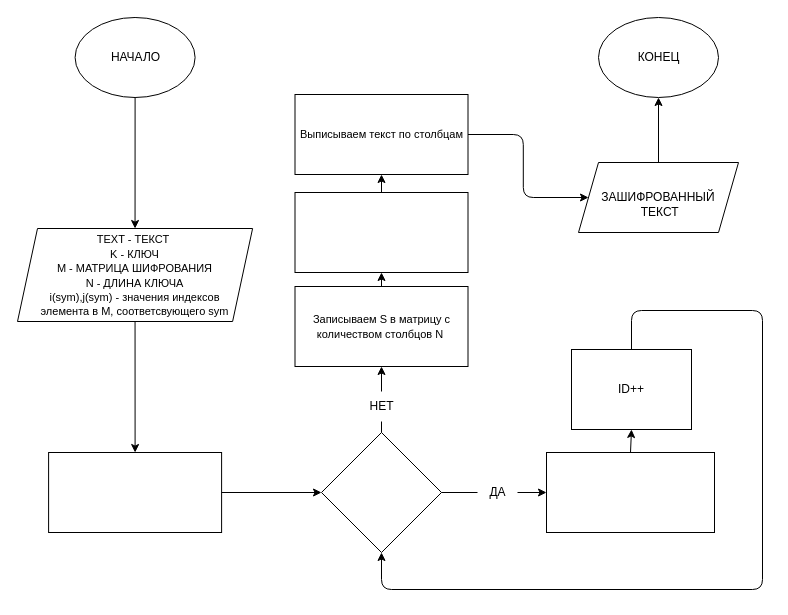
The diagram is 788 pixels wide and 615 high, and some of its shapes have lost their labels. The centre of each missing label's shape, as x and y in pixels:
ID < len(TEXT): point 381,492
S = "" ID = 0: point 135,492
S = S + i(TEXT[ID]) + j(TEXT[ID]): point 630,492
Делаем перстановку столбцов в соответсвии с порядком в K: point 381,232
